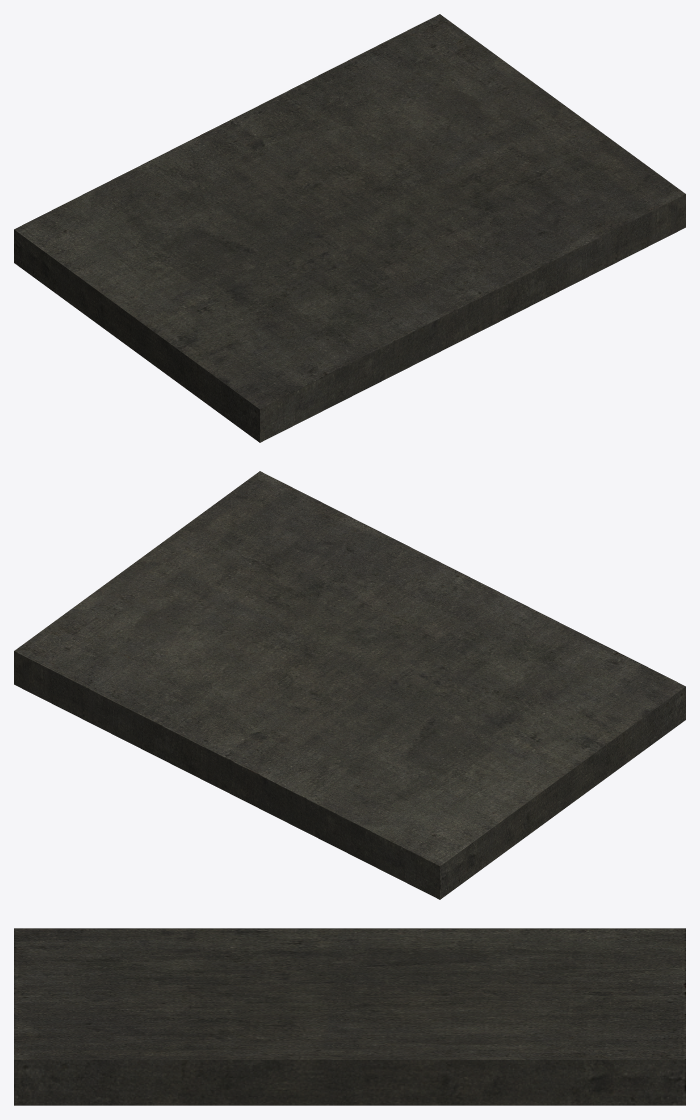
File: floor_ceiling_hs_2.fbx
3 renders of one model, top to bottom at view 1: azimuth 30°, elevation 25°; view 2: azimuth 150°, elevation 25°; view 3: azimuth 270°, elevation 25°, orthographic. The views are drawn at different scales.
Parts seen in each view (by area): view 1: floor_ceiling_hs_2; view 2: floor_ceiling_hs_2; view 3: floor_ceiling_hs_2.
Boxes of the visible parts, x1=… form: floor_ceiling_hs_2: x1=14, y1=14, x2=685, y2=442; floor_ceiling_hs_2: x1=14, y1=471, x2=685, y2=899; floor_ceiling_hs_2: x1=14, y1=928, x2=685, y2=1105.
Bounding box in the file's own units: 4 × 4 × 1.3.
